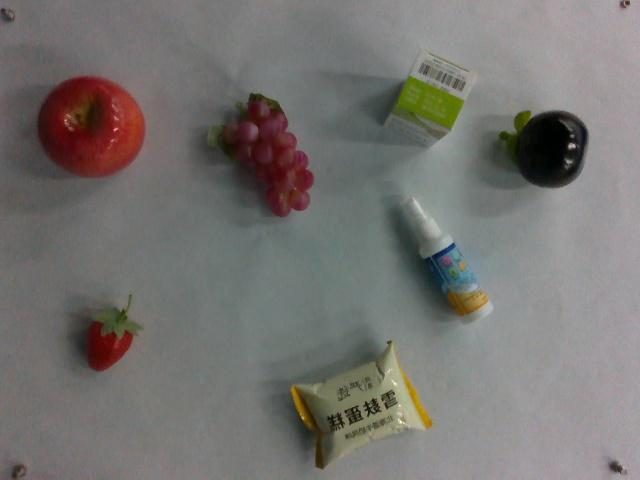apple: (39, 73, 145, 178)
carton: (381, 48, 479, 154)
dessert: (296, 349, 423, 467)
detergent: (400, 192, 493, 329)
grape: (216, 93, 311, 222)
mangosteen: (498, 107, 589, 190)
strawberry: (81, 294, 141, 376)
